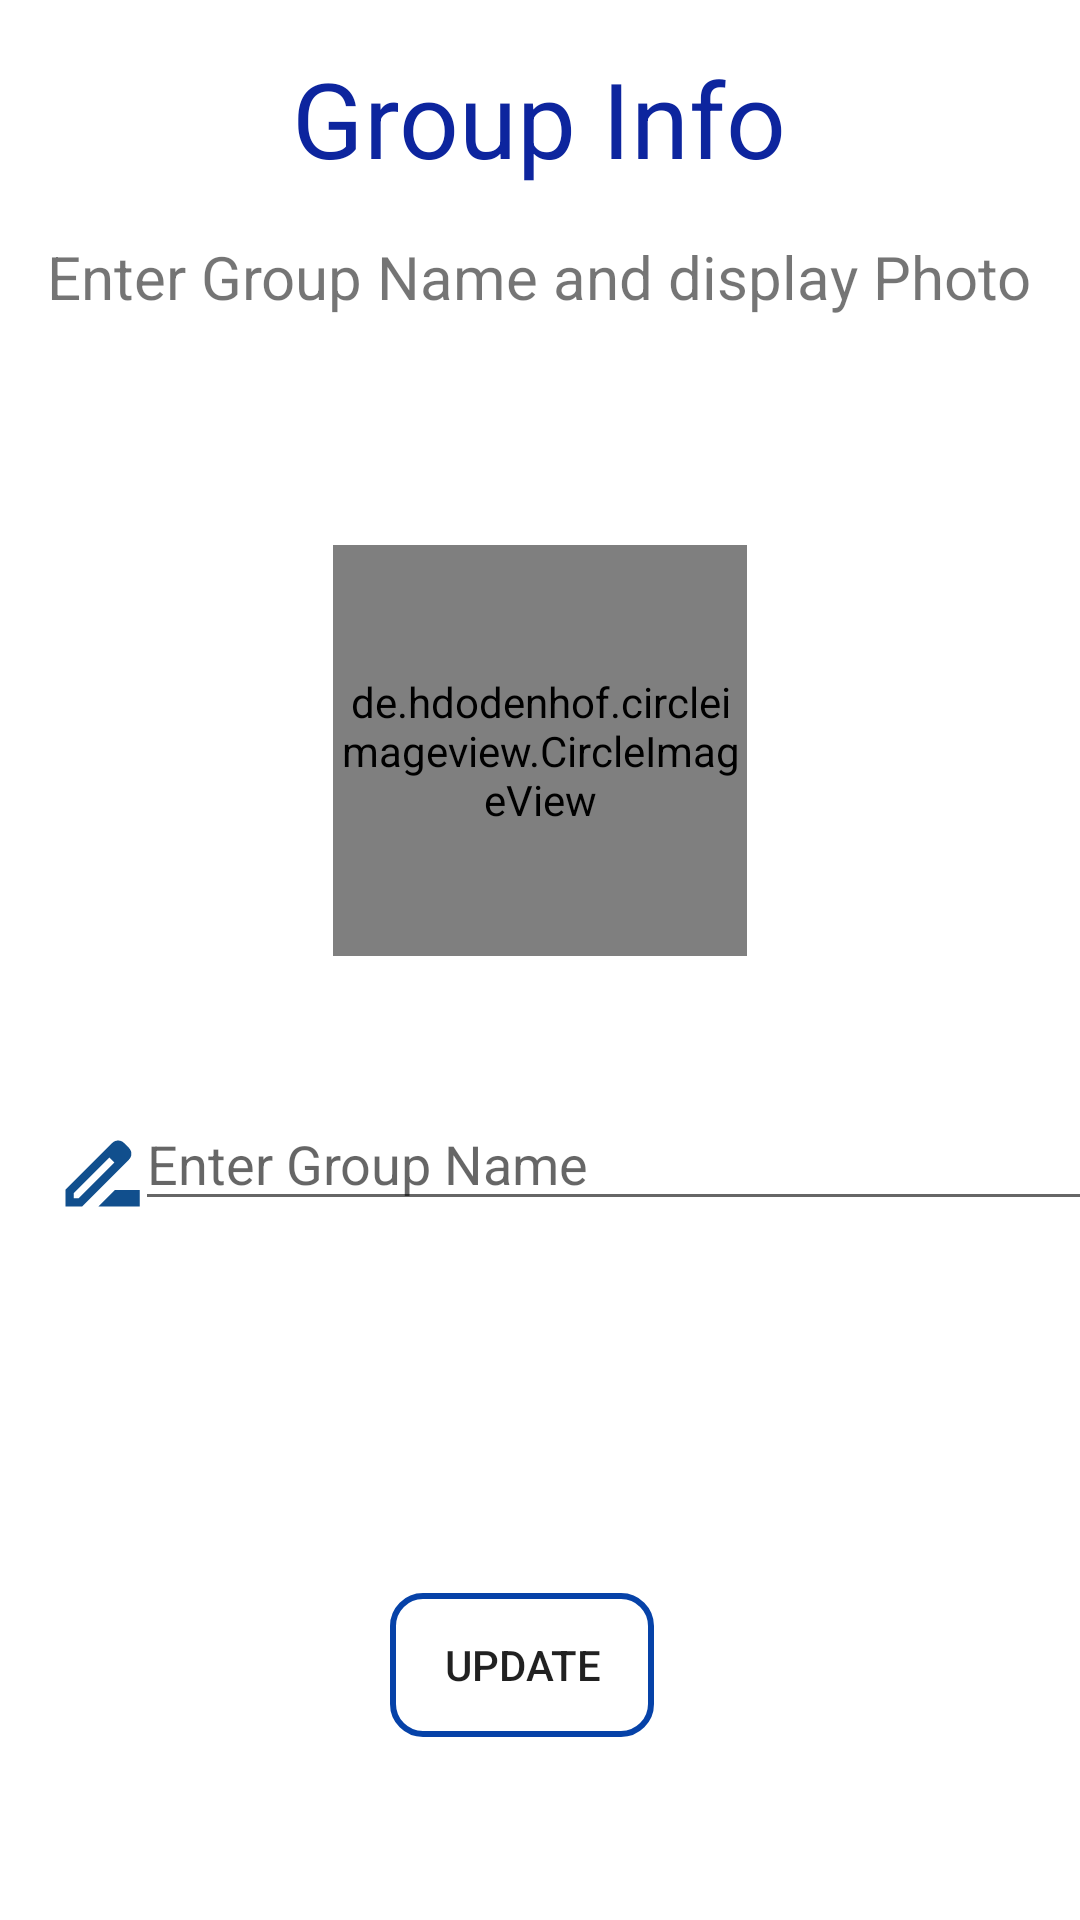

Screen size 1080 x 1920. Icon name, then its center in pixels as point (x, y):
drive file rename: point (102, 1173)
